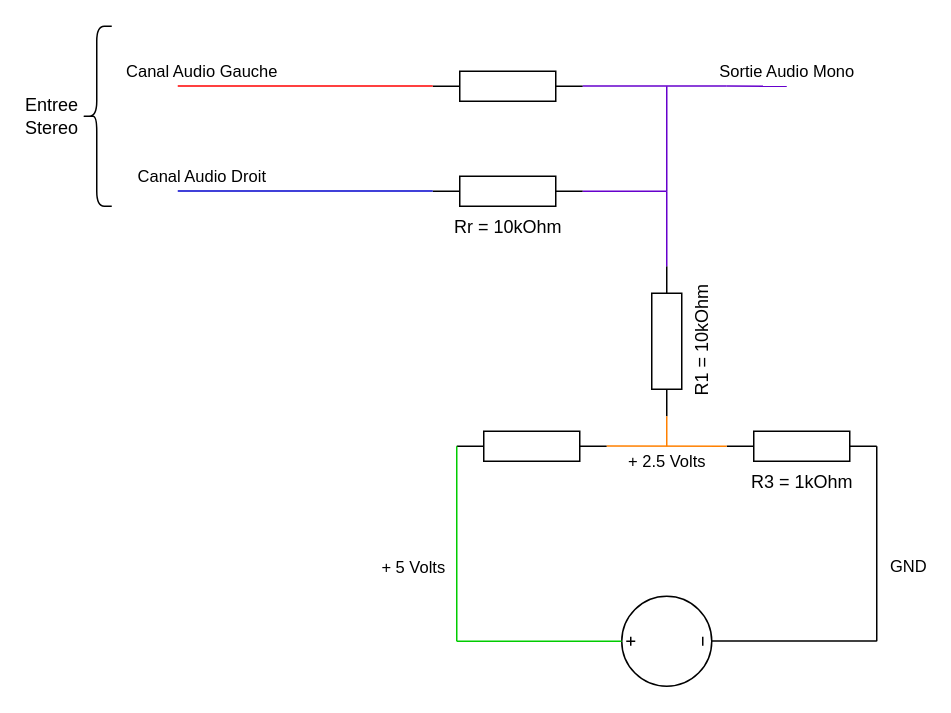
Image size: 951x713. Some labels were removed from this diagram. The shapes that lost their labels are listed below. From the top down, each one's centre as x and y in pixels, then its label:
At (507,85): "Rl = 10kOhm".
At (531,445): "R2 =1kOhm".
